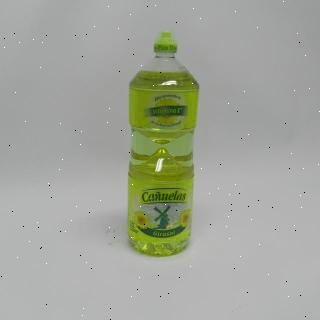Plastic-bottle: (121, 30, 201, 263)
